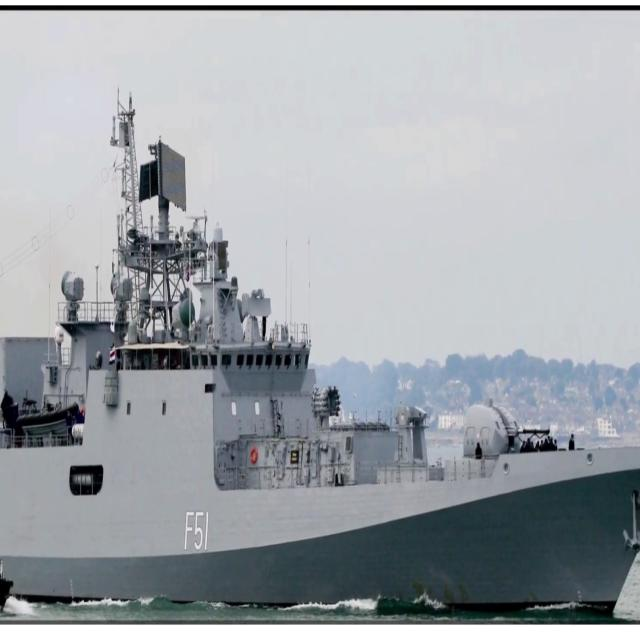OCR: (181, 506, 215, 558)
